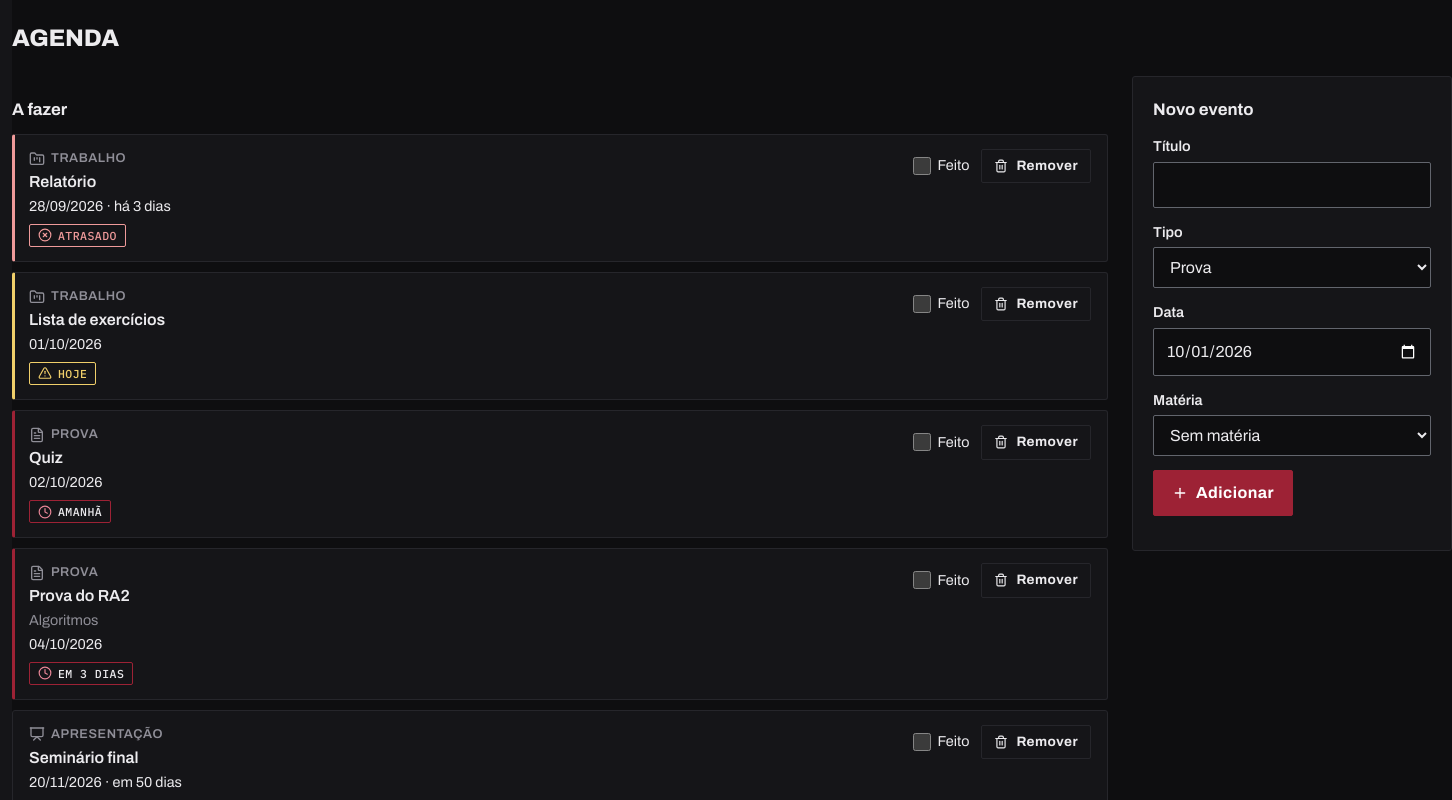
Test: TelaAgenda › marcar como feito leva o item para os concluídos e salva
Click the checkbox named "Marcar Prova do RA2 como feito". click: (922, 580)
box: [913,571,931,589]
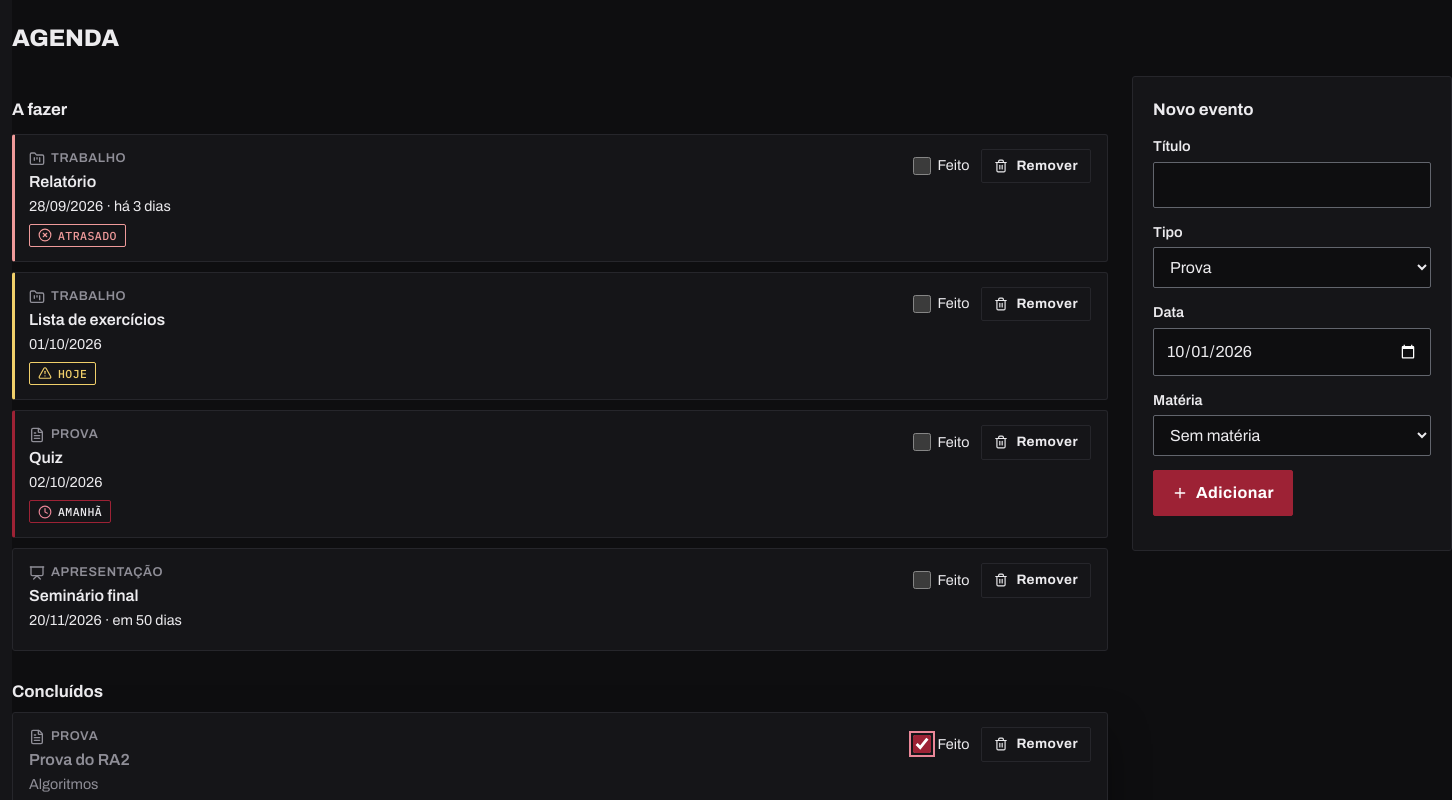
Expected: the text "Prova do RA2" is not shown
Now the checkbox named "Marcar Prova do RA2 como feito" is checked, box [913,735,931,753]
